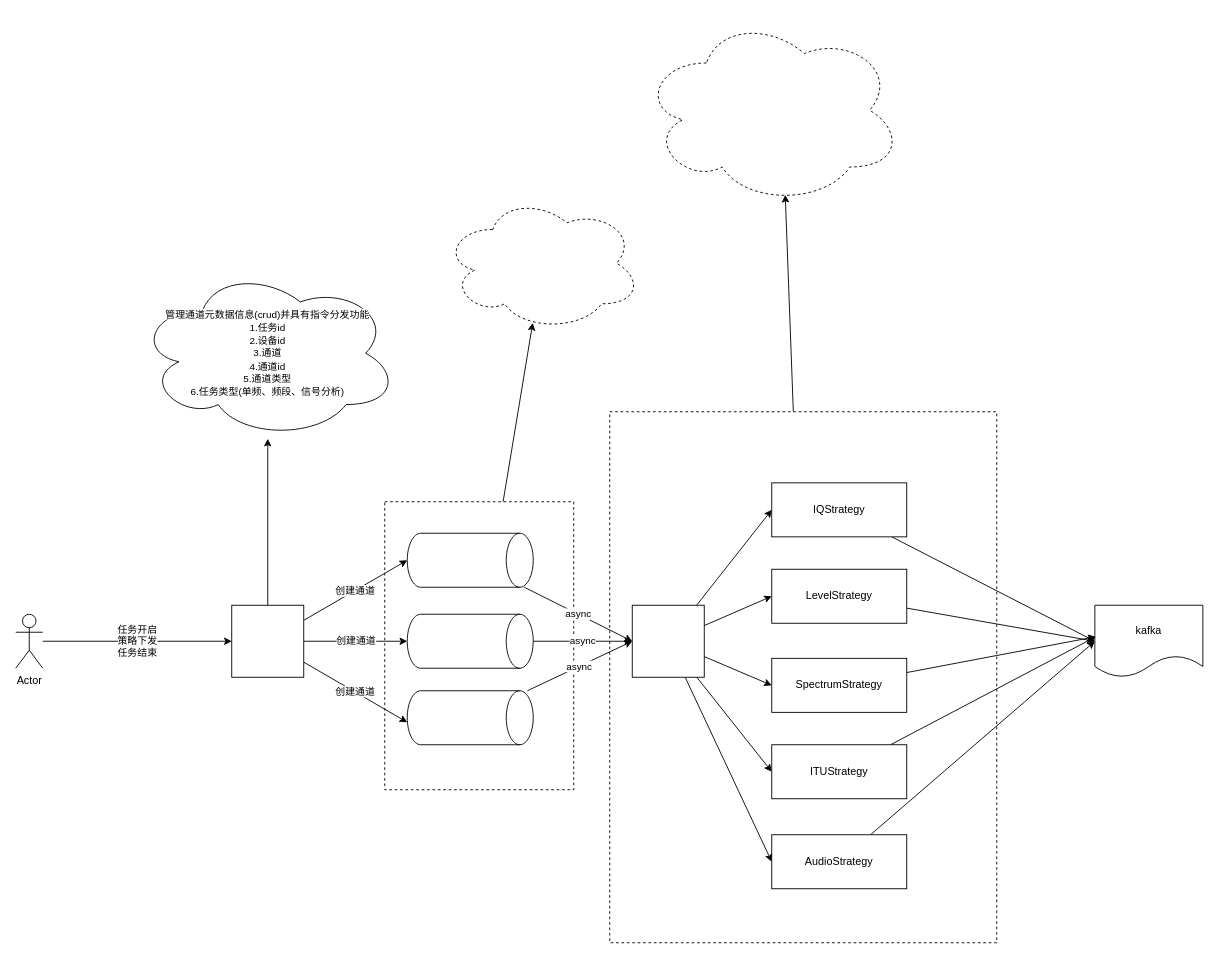
The diagram is 1219 pixels wide and 959 high, and some of its shapes have lost their labels. Each missing label, with the centre of its shape:
1.预处理字节数据，封装成POJO 2.信号解调 3.调用算法库解析相关数据 4.获取足够的信号强度数据进行POA定位: the point at 771,110
Dispatcher: the point at 267,640
Strategy: the point at 667,640
通道中建立线程池， 异步执行策略任务: the point at 541,263
